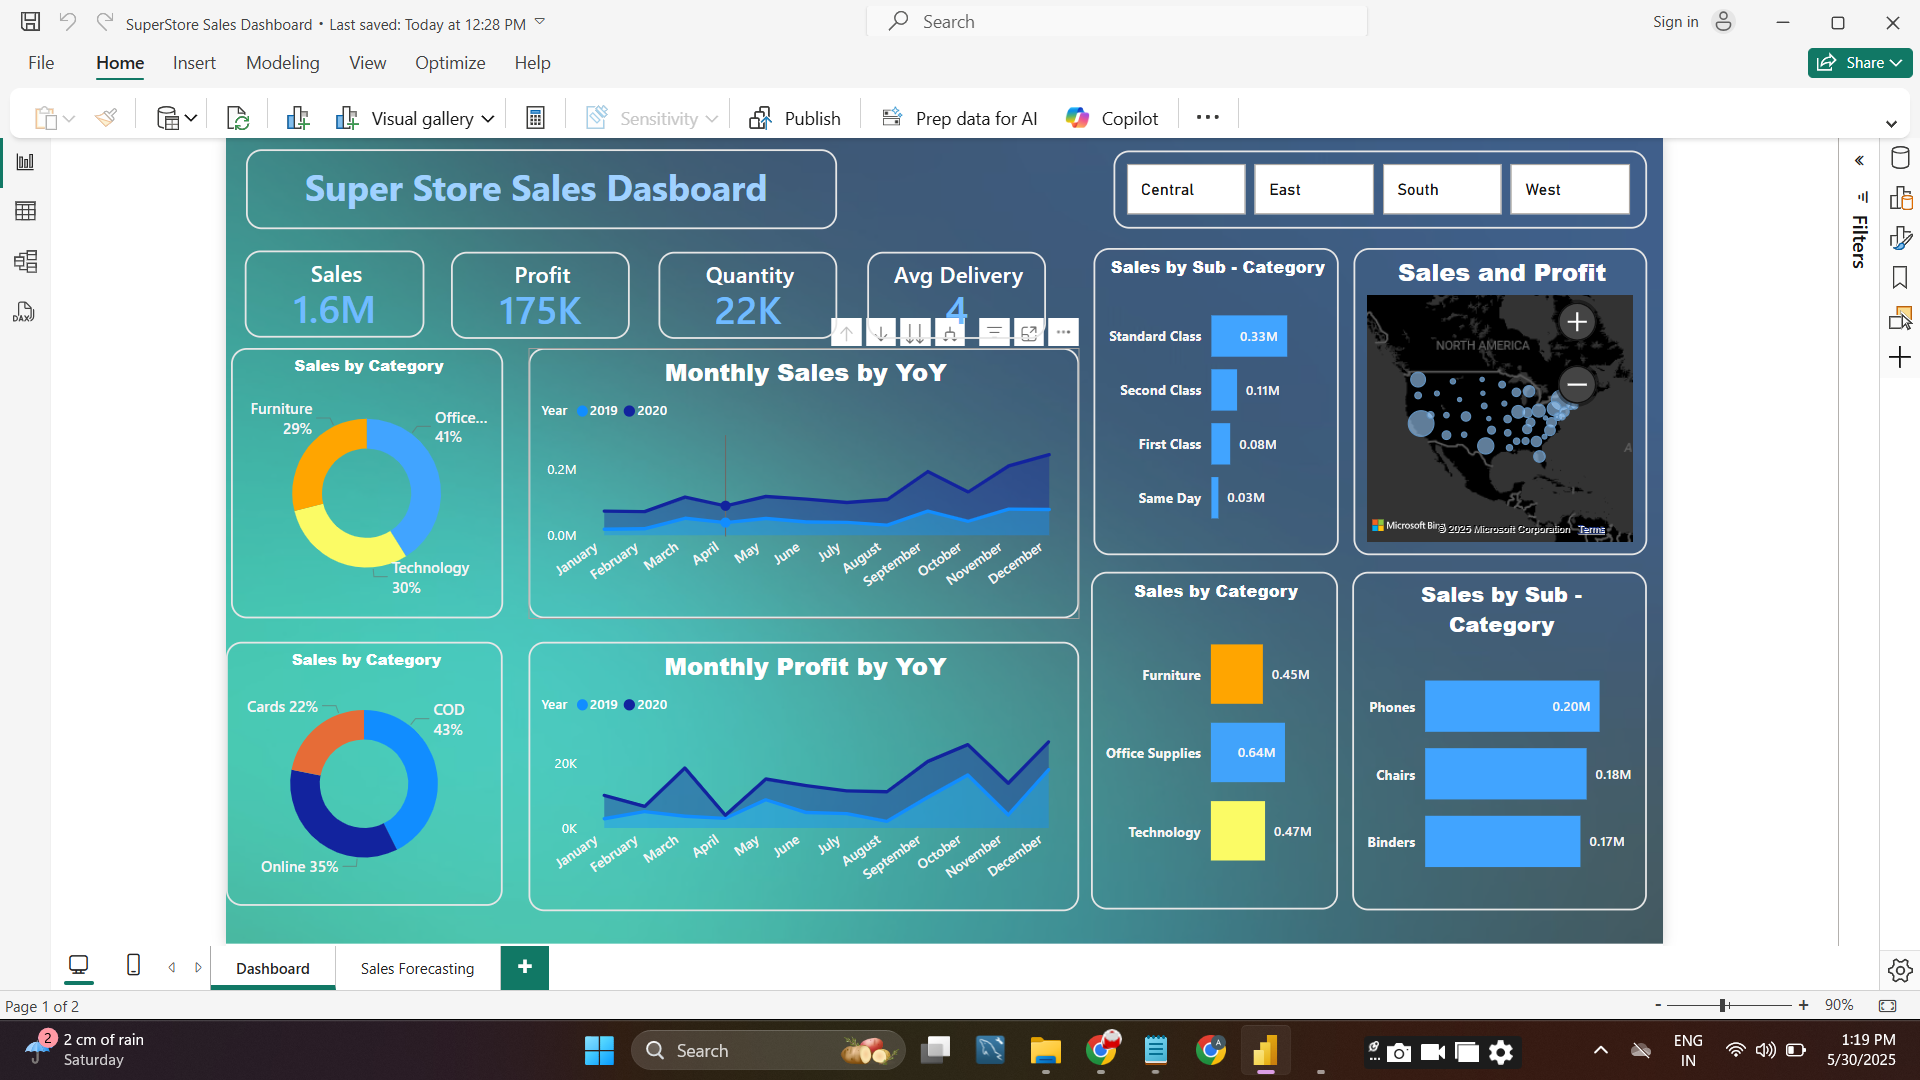

What the dashboard file says about the page in this screenshot:
{"tool":"powerbi","page":{"name":"Dashboard","canvas":[1280,720],"ordinal":0},"visuals":[{"type":"barChart","title":"Sales by Category","fields":{"Category":["SuperStore_Sales_Dataset.Category"],"Y":["Sum(SuperStore_Sales_Dataset.Sales)"]},"box":[770.6,386.5,219.6,300.6],"z":0},{"type":"barChart","title":"Sales by Sub - Category","fields":{"Category":["SuperStore_Sales_Dataset.Sub-Category"],"Y":["Sum(SuperStore_Sales_Dataset.Sales)"]},"box":[1002.5,386.5,262.6,301.8],"z":1000},{"type":"barChart","title":"Sales by Sub - Category","fields":{"Category":["SuperStore_Sales_Dataset.Ship Mode"],"Y":["Sum(SuperStore_Sales_Dataset.Sales)"]},"box":[773,98.2,218.4,273.6],"z":2000},{"type":"stackedAreaChart","title":"Monthly Sales by YoY","fields":{"Y":["Sum(SuperStore_Sales_Dataset.Sales)"],"Category":["SuperStore_Sales_Dataset.Order Date.Variation.Date Hierarchy.Month","SuperStore_Sales_Dataset.Order Date.Variation.Date Hierarchy.Day"],"Series":["SuperStore_Sales_Dataset.Order Date.Variation.Date Hierarchy.Year"]},"box":[269.8,187.6,490.5,240.9],"z":3000},{"type":"stackedAreaChart","title":"Monthly Profit by YoY","fields":{"Category":["SuperStore_Sales_Dataset.Order Date.Variation.Date Hierarchy.Month","SuperStore_Sales_Dataset.Order Date.Variation.Date Hierarchy.Day"],"Series":["SuperStore_Sales_Dataset.Order Date.Variation.Date Hierarchy.Year"],"Y":["Sum(SuperStore_Sales_Dataset.Profit)"]},"box":[269.8,448.7,490,240],"z":4000},{"type":"map","title":" Sales and Profit","fields":{"Category":["SuperStore_Sales_Dataset.State"],"Size":["Sum(SuperStore_Sales_Dataset.Sales)"]},"box":[1003.7,98.2,261.4,273.6],"z":5000},{"type":"donutChart","title":"Sales by Category","fields":{"Y":["Sum(SuperStore_Sales_Dataset.Sales)"],"Category":["SuperStore_Sales_Dataset.Category"]},"box":[4.3,187.6,242.4,240.9],"z":6000},{"type":"donutChart","title":"Sales by Category","fields":{"Y":["Sum(SuperStore_Sales_Dataset.Sales)"],"Category":["SuperStore_Sales_Dataset.Payment Mode"]},"box":[0,448.7,246.7,235.2],"z":7000},{"type":"advancedSlicerVisual","fields":{"Values":["SuperStore_Sales_Dataset.Region"]},"box":[790.2,11,474.8,69.9],"z":8000},{"type":"textbox","box":[17.9,10.4,526.5,71.6],"z":9000},{"type":"card","title":"Sales","fields":{"Values":["Sum(SuperStore_Sales_Dataset.Sales)"]},"box":[17.2,100.6,160,77.3],"z":10000},{"type":"card","title":"Profit","fields":{"Values":["Sum(SuperStore_Sales_Dataset.Profit)"]},"box":[200,101.8,159.5,77.3],"z":11000},{"type":"card","title":"Quantity","fields":{"Values":["Sum(SuperStore_Sales_Dataset.Quantity)"]},"box":[385.3,101.8,159.5,77.3],"z":12000},{"type":"card","title":"Avg Delivery ","fields":{"Values":["Avg(SuperStore_Sales_Dataset.AvgDelivery)"]},"box":[570.6,101.8,159.5,77.3],"z":13000}]}

Visuals, with their boxes on the page's 1280x720 design canvas (x1, y1, x2, y2). These are canvas units, not pixel positions in the 1920x1080 screenshot, which may show the page scaled, cropped or inside an application window:
"Sales by Category" barChart: [left=771, top=386, right=990, bottom=687]
"Sales by Sub - Category" barChart: [left=1002, top=386, right=1265, bottom=688]
"Sales by Sub - Category" barChart: [left=773, top=98, right=991, bottom=372]
"Monthly Sales by YoY" stackedAreaChart: [left=270, top=188, right=760, bottom=428]
"Monthly Profit by YoY" stackedAreaChart: [left=270, top=449, right=760, bottom=689]
" Sales and Profit" map: [left=1004, top=98, right=1265, bottom=372]
"Sales by Category" donutChart: [left=4, top=188, right=247, bottom=428]
"Sales by Category" donutChart: [left=0, top=449, right=247, bottom=684]
advancedSlicerVisual - SuperStore_Sales_Dataset.Region: [left=790, top=11, right=1265, bottom=81]
textbox: [left=18, top=10, right=544, bottom=82]
"Sales" card: [left=17, top=101, right=177, bottom=178]
"Profit" card: [left=200, top=102, right=360, bottom=179]
"Quantity" card: [left=385, top=102, right=545, bottom=179]
"Avg Delivery " card: [left=571, top=102, right=730, bottom=179]
